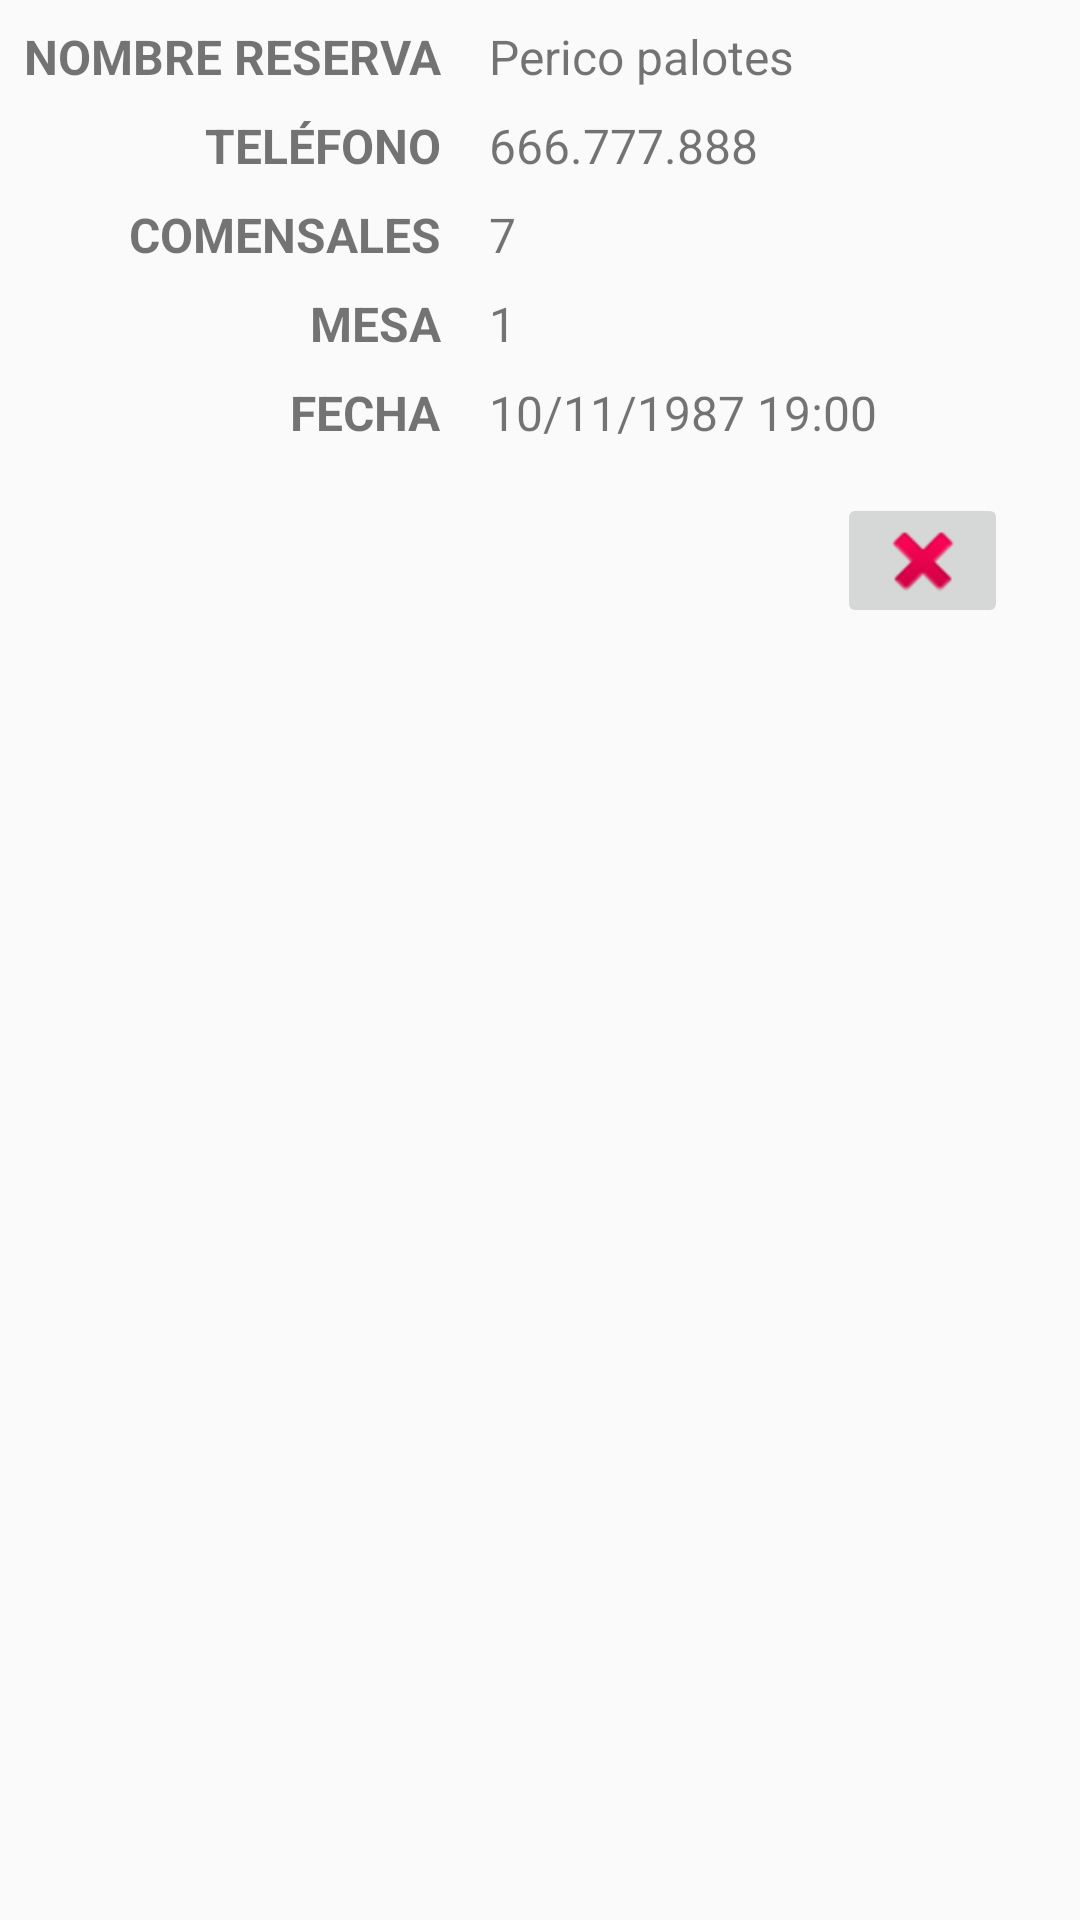

Where icons sit on this 1080*1920 app screen, as rect(x1, y1, x2, y2):
delete: rect(849, 511, 996, 610)
